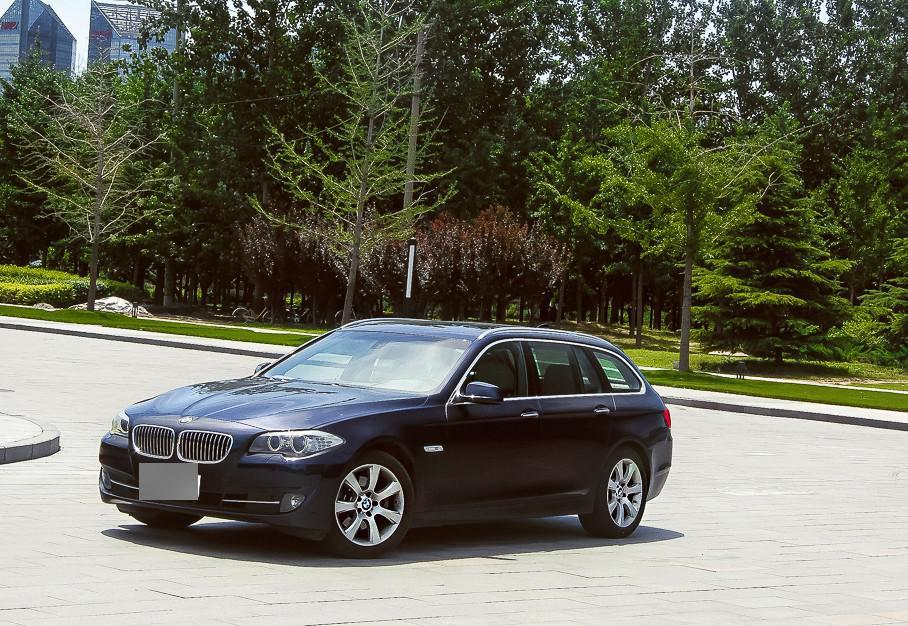Wagon: (100, 318, 671, 559)
